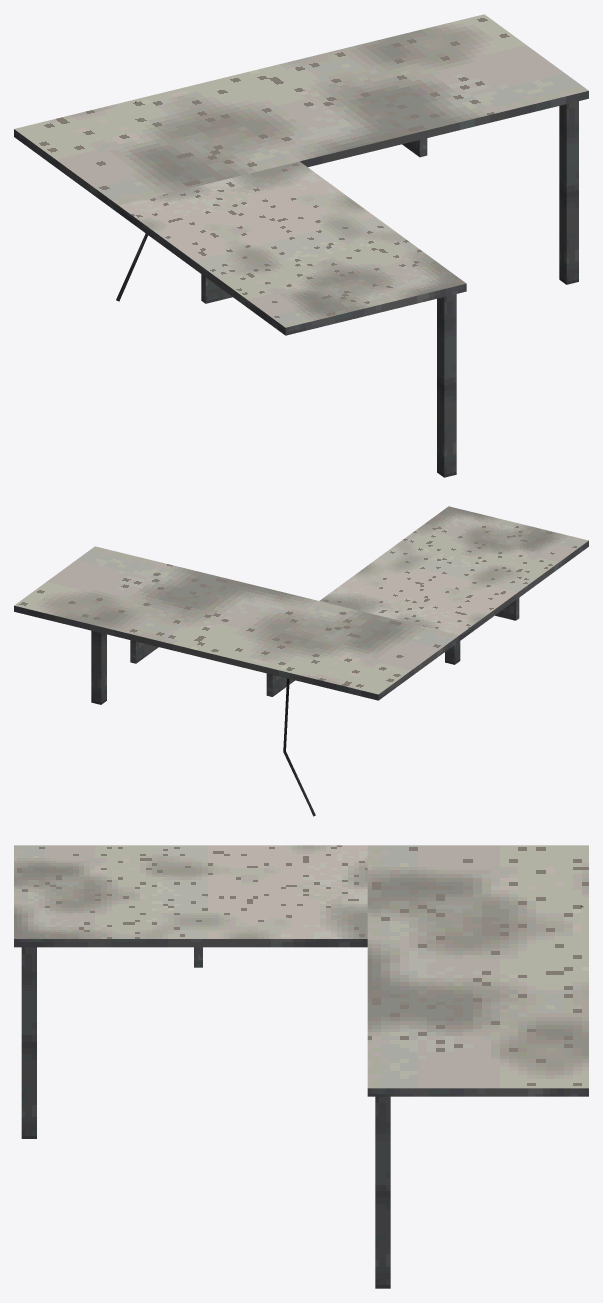
The model's file is cubicle_desk_corner.glb.
The picture shows the model from 3 angles, top to bottom: view 1: azimuth 30°, elevation 25°; view 2: azimuth 150°, elevation 25°; view 3: azimuth 270°, elevation 25°; orthographic projection. The views are drawn at different scales.
Parts seen in each view (by area): view 1: cubicle_desk_corner; view 2: cubicle_desk_corner; view 3: cubicle_desk_corner.
Part boxes in pixels (x1,y1,x2,y2): cubicle_desk_corner: (14, 14, 588, 477); cubicle_desk_corner: (14, 506, 588, 816); cubicle_desk_corner: (14, 845, 588, 1288).
Bounding box in the file's own units: 1.87 × 0.7309 × 1.87.
